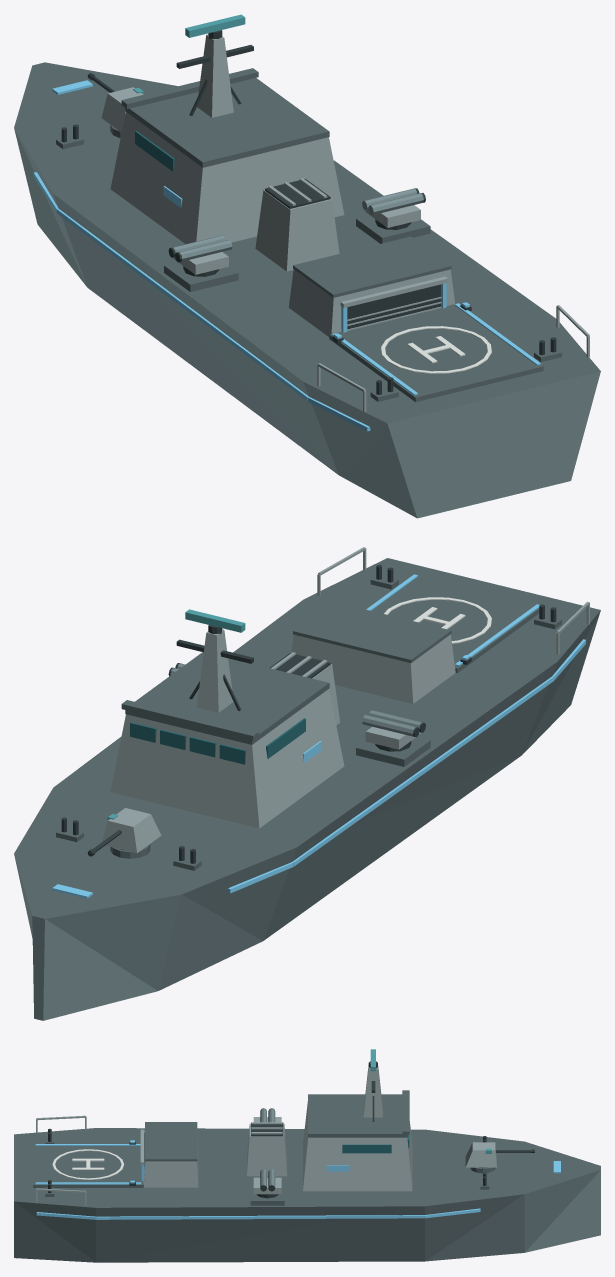
The model's file is ESC_ASW_T0.fbx.
3 views of the same model, one above another, from view 1: azimuth 30°, elevation 25°; view 2: azimuth 150°, elevation 25°; view 3: azimuth 270°, elevation 25° (orthographic). The views are drawn at different scales.
Visible parts, largest first — view 1: ContinuousHull.004, Deckhouse.004, HelicopterDeck, Roof.004, HangarRoof, FunnelEnclosure.004, AviationServiceHouse, NavMast, AftFacingHangarDoor, RoleHullStripe-1_1, BridgeBrow, TorpedoFoot_P (+8 smaller); view 2: ContinuousHull.004, Deckhouse.004, Roof.004, HelicopterDeck, AviationServiceHouse, HangarRoof, NavMast, PrimaryGunCupola.004, RoleHullStripe-1_1, BridgeBrow, TorpedoFoot_P, TorpedoCradle_P (+2 smaller); view 3: ContinuousHull.004, Deckhouse.004, HelicopterDeck, Roof.004, HangarRoof, FunnelEnclosure.004, AviationServiceHouse, RoleHullStripe1_1, NavMast, PrimaryGunCupola.004, BridgeSideGlass1, TorpedoFoot_S (+4 smaller).
Part boxes in pixels (x1,y1,x2,y2): ContinuousHull.004: (14, 62, 600, 518); Deckhouse.004: (110, 112, 344, 243); HelicopterDeck: (329, 304, 543, 402); Roof.004: (125, 78, 329, 167); HangarRoof: (293, 236, 451, 297); FunnelEnclosure.004: (255, 190, 339, 271); AviationServiceHouse: (288, 269, 454, 336); NavMast: (197, 34, 233, 117); AftFacingHangarDoor: (347, 284, 440, 329); RoleHullStripe-1_1: (56, 208, 308, 400); BridgeBrow: (121, 68, 258, 109); TorpedoFoot_P: (164, 262, 238, 291); ContinuousHull.004: (14, 558, 600, 1020); Deckhouse.004: (110, 689, 344, 828); Roof.004: (125, 652, 329, 744); HelicopterDeck: (371, 574, 539, 673); AviationServiceHouse: (291, 634, 455, 703); HangarRoof: (293, 601, 451, 662); NavMast: (196, 629, 233, 712); PrimaryGunCupola.004: (102, 808, 161, 853); RoleHullStripe-1_1: (292, 676, 553, 866); BridgeBrow: (121, 700, 258, 740); TorpedoFoot_P: (356, 737, 430, 766); TorpedoCradle_P: (365, 726, 420, 749); ContinuousHull.004: (14, 1128, 600, 1262); Deckhouse.004: (303, 1101, 412, 1191); HelicopterDeck: (33, 1145, 143, 1187); Roof.004: (308, 1094, 407, 1137); HangarRoof: (145, 1122, 197, 1161); FunnelEnclosure.004: (247, 1123, 287, 1176); AviationServiceHouse: (143, 1132, 198, 1187); RoleHullStripe1_1: (96, 1215, 424, 1219); NavMast: (363, 1065, 382, 1117); PrimaryGunCupola.004: (465, 1142, 496, 1167); BridgeSideGlass1: (342, 1144, 391, 1153); TorpedoFoot_S: (250, 1185, 284, 1205).
Bounding box in the file's own units: 290 × 310 × 900.
